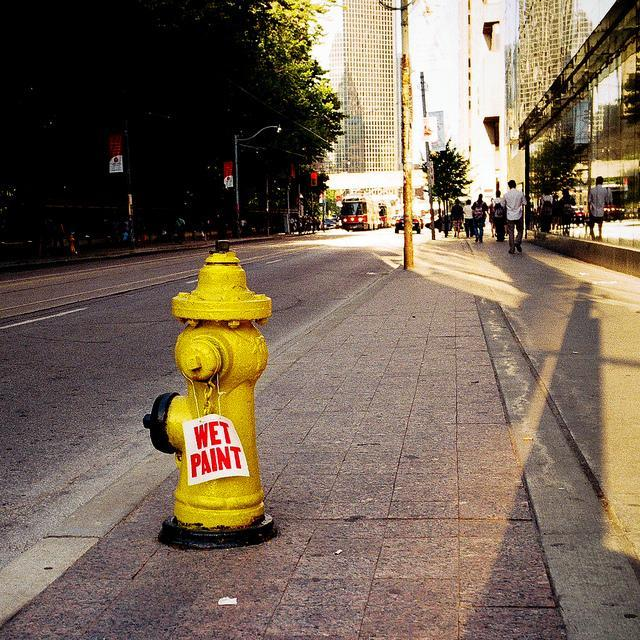fire_hydrant: (137, 238, 271, 548)
